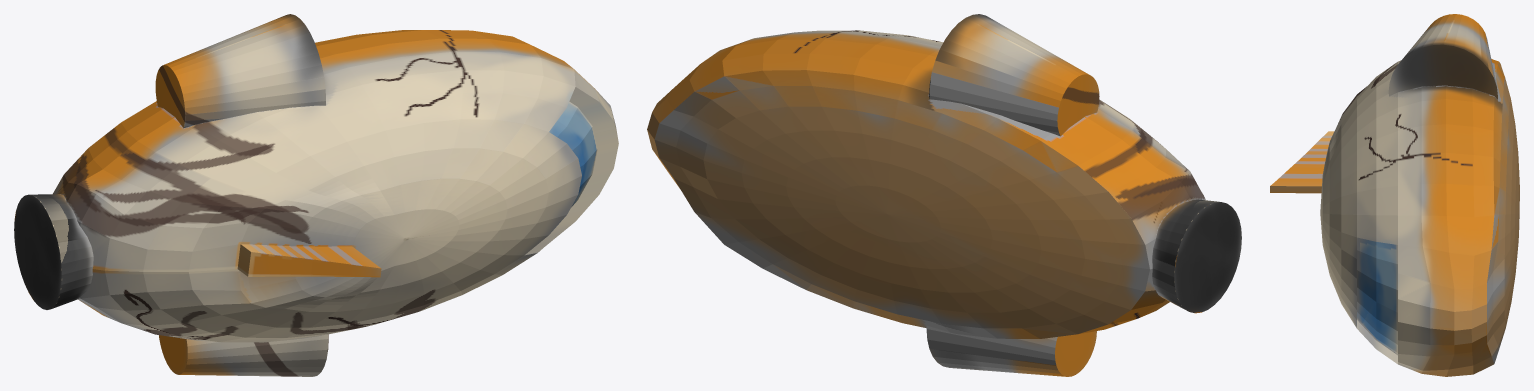
The model's file is ship.fbx.
3 renders of one model, left to right at view 1: azimuth 30°, elevation 25°; view 2: azimuth 150°, elevation 25°; view 3: azimuth 270°, elevation 25°, orthographic. The views are drawn at different scales.
Visible parts, largest first — view 1: Cylinder; view 2: Cylinder; view 3: Cylinder.
Part boxes in pixels (x1,y1,x2,y2): Cylinder: (14, 14, 618, 376); Cylinder: (647, 14, 1241, 376); Cylinder: (1270, 14, 1519, 376).
Bounding box in the file's own units: 457 × 269 × 199.
Materials: 1 (1 with a texture image).
